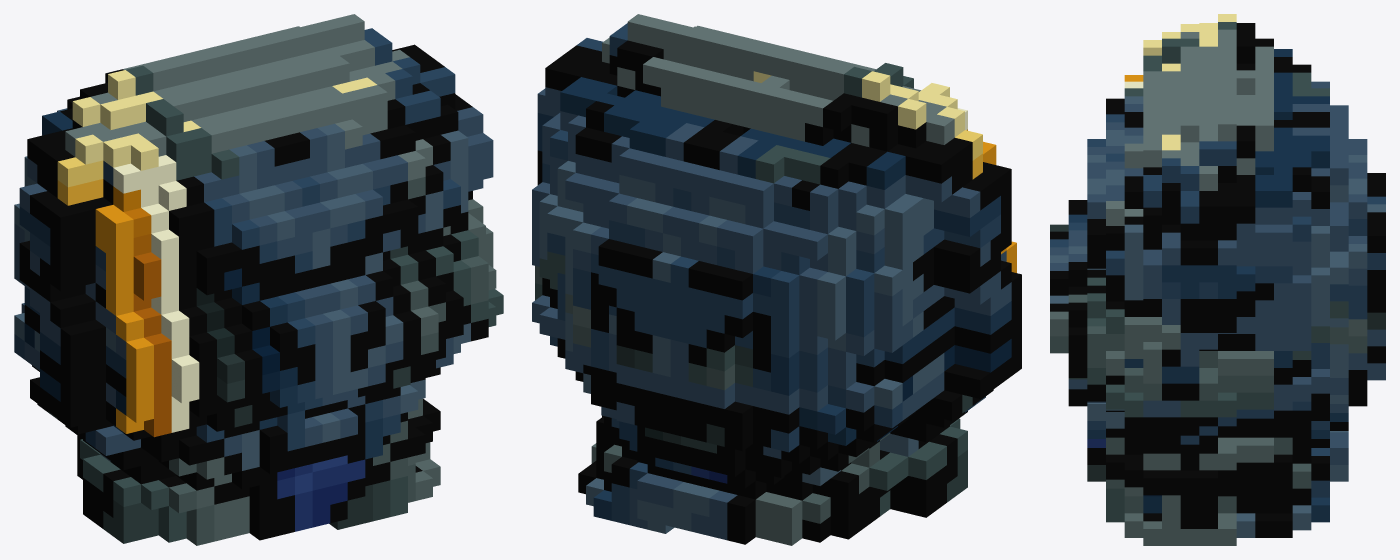
The model's file is Icon_030_01.obj.
3 views of the same model, side by side, from view 1: azimuth 30°, elevation 25°; view 2: azimuth 150°, elevation 25°; view 3: azimuth 270°, elevation 25° (orthographic). The views are drawn at different scales.
Bounding box in the file's own units: 2.4 × 2.4 × 1.8.
1 material, 1 textured.
